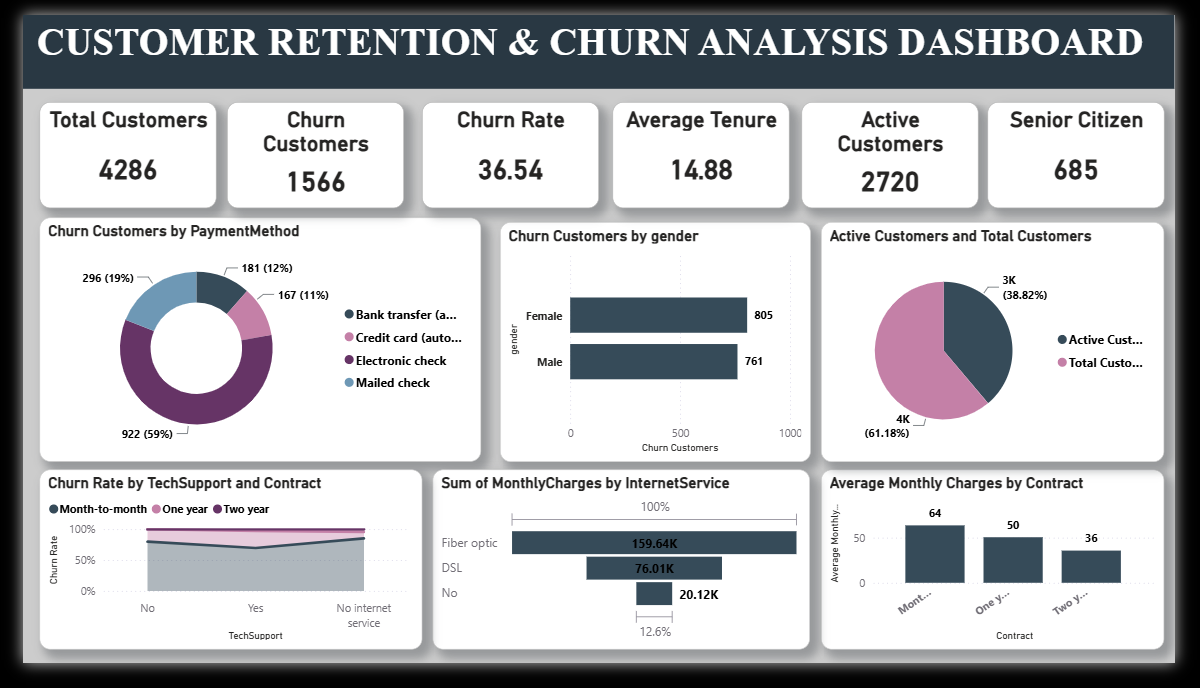

This screenshot's page, from the dashboard's own definition file:
{"tool":"powerbi","page":{"name":"Page 1","canvas":[1280,720],"ordinal":0},"visuals":[{"type":"card","title":"Total Customers","fields":{"Values":["Measures (2).Total Customers"]},"box":[18.2,96.9,196.8,118.1],"z":0},{"type":"barChart","fields":{"Y":["Measures (2).Churn Customers"],"Category":["Telco-Customer-Churn.gender"]},"box":[530,230.2,345.2,266.5],"z":3},{"type":"donutChart","fields":{"Y":["Measures (2).Churn Customers"],"Series":["Telco-Customer-Churn.PaymentMethod"]},"box":[18.2,225.6,490.6,271],"z":4},{"type":"textbox","box":[0,0,1279.5,81.8],"z":6},{"type":"card","title":"Churn Customers","fields":{"Values":["Measures (2).Churn Customers"]},"box":[227.1,96.9,196.8,118.1],"z":7},{"type":"card","title":"Churn Rate","fields":{"Values":["Measures (2).Churn Rate"]},"box":[443.7,96.9,196.8,118.1],"z":8},{"type":"card","title":"Average Tenure","fields":{"Values":["Measures (2).Average Tenure"]},"box":[655.7,96.9,196.8,118.1],"z":9},{"type":"card","title":"Active Customers","fields":{"Values":["Measures (2).Active Customers"]},"box":[864.6,96.9,196.8,118.1],"z":10},{"type":"card","title":"Senior Citizen","fields":{"Values":["Sum(Telco-Customer-Churn.SeniorCitizen)"]},"box":[1072.1,96.9,196.8,118.1],"z":11},{"type":"columnChart","fields":{"Category":["Telco-Customer-Churn.Contract"],"Y":["Measures (2).Average Monthly Charges"]},"box":[887.3,505.7,381.6,199.9],"z":12},{"type":"funnel","fields":{"Category":["Telco-Customer-Churn.InternetService"],"Y":["Sum(Telco-Customer-Churn.MonthlyCharges)"]},"box":[455.8,505.7,419.4,199.9],"z":13},{"type":"hundredPercentStackedAreaChart","fields":{"Y":["Measures (2).Churn Rate"],"Category":["Telco-Customer-Churn.TechSupport"],"Series":["Telco-Customer-Churn.Contract"]},"box":[18.2,505.7,425.5,199.9],"z":14},{"type":"pieChart","fields":{"Y":["Measures (2).Active Customers","Measures (2).Total Customers"]},"box":[887.3,230.2,381.6,266.5],"z":15}]}

Visuals, with their boxes in screenshot pixels (x1, y1, x2, y2), scaled from the page's 1280x720 canvas onto the 1200x688 screenshot:
"Total Customers" card: x1=17 y1=93 x2=202 y2=205
barChart - Measures (2).Churn Customers x Telco-Customer-Churn.gender: x1=497 y1=220 x2=820 y2=475
donutChart - Measures (2).Churn Customers x Telco-Customer-Churn.PaymentMethod: x1=17 y1=216 x2=477 y2=475
textbox: x1=0 y1=0 x2=1199 y2=78
"Churn Customers" card: x1=213 y1=93 x2=397 y2=205
"Churn Rate" card: x1=416 y1=93 x2=600 y2=205
"Average Tenure" card: x1=615 y1=93 x2=799 y2=205
"Active Customers" card: x1=811 y1=93 x2=995 y2=205
"Senior Citizen" card: x1=1005 y1=93 x2=1190 y2=205
columnChart - Telco-Customer-Churn.Contract x Measures (2).Average Monthly Charges: x1=832 y1=483 x2=1190 y2=674
funnel - Telco-Customer-Churn.InternetService x Sum(Telco-Customer-Churn.MonthlyCharges): x1=427 y1=483 x2=820 y2=674
hundredPercentStackedAreaChart - Measures (2).Churn Rate x Telco-Customer-Churn.TechSupport: x1=17 y1=483 x2=416 y2=674
pieChart - Measures (2).Active Customers x Measures (2).Total Customers: x1=832 y1=220 x2=1190 y2=475
